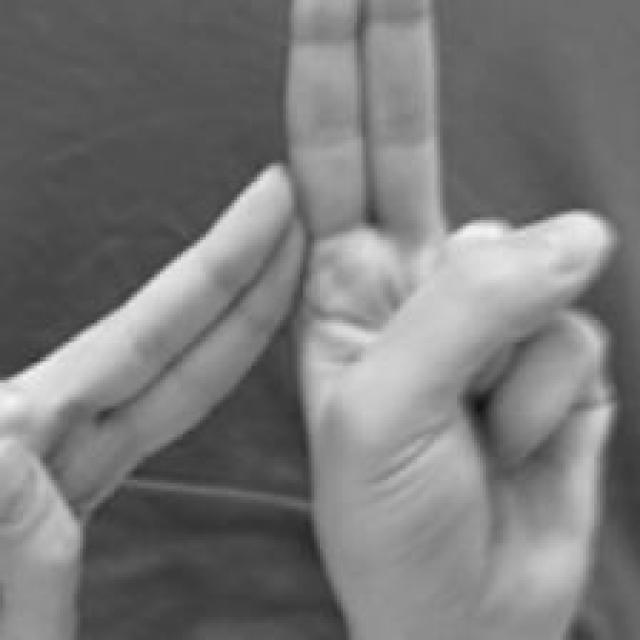K: (4, 0, 624, 640)
